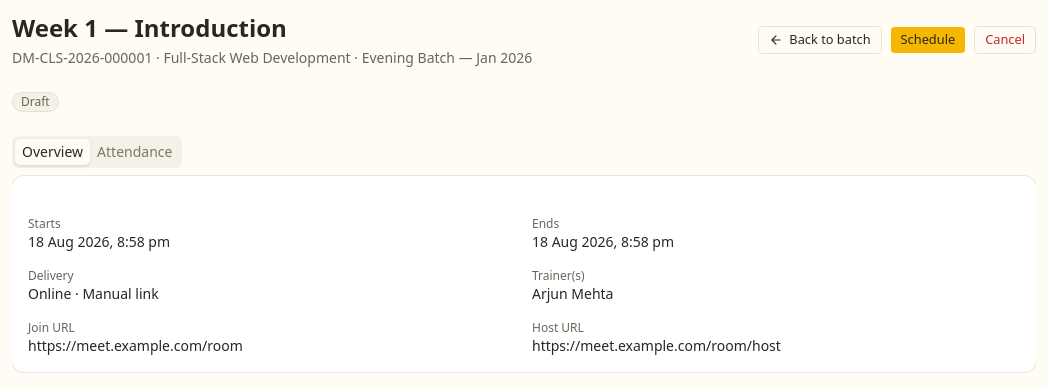
it: LiveClassDetailPage › schedules a DRAFT session via the "Schedule" action, moving it to SCHEDULED
The image size is (1048, 390).
Check: the heading "Week 1 — Introduction" is shown, box [12, 11, 287, 44]
Check: the icon "Draft" is shown, box [12, 92, 59, 112]
Click the button "Schedule" at (928, 40), box [890, 26, 966, 54]
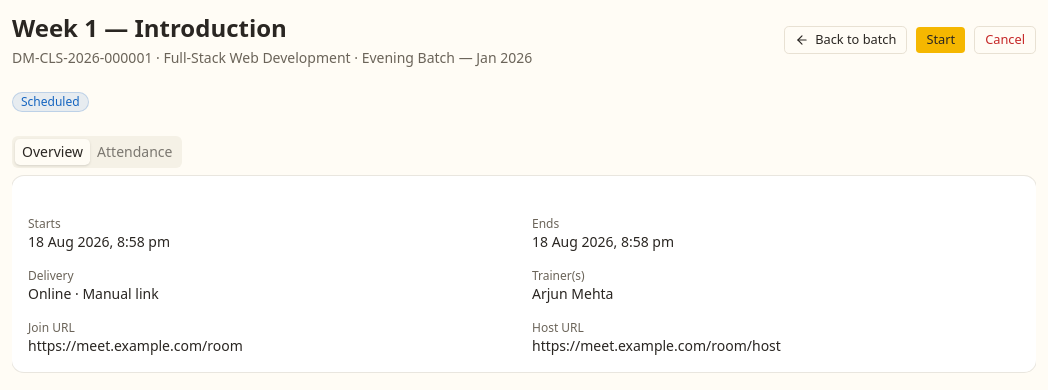
Check: the text "Scheduled" is shown, box [12, 92, 89, 112]
